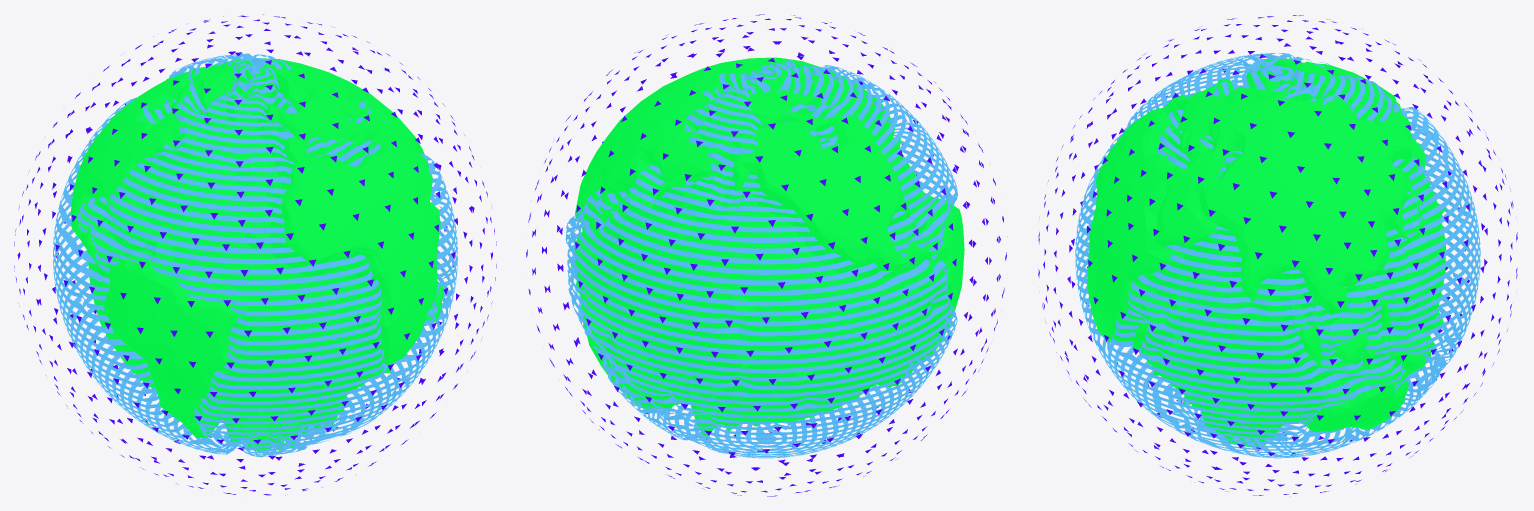
Rendered from Hologram1.glb.
3 renders of one model, left to right at view 1: azimuth 30°, elevation 25°; view 2: azimuth 150°, elevation 25°; view 3: azimuth 270°, elevation 25°, orthographic.
Parts seen in each view (by area): view 1: TERRE1, Sphere.002, Circle.455; view 2: TERRE1, Sphere.002, Circle.455; view 3: TERRE1, Sphere.002, Circle.455.
Boxes of the visible parts, x1,y1,x2,y2 form: TERRE1: (70,58,443,451); Sphere.002: (53,53,457,457); Circle.455: (14,14,496,495); TERRE1: (571,57,964,436); Sphere.002: (565,60,957,458); Circle.455: (526,14,1007,496); TERRE1: (1087,58,1446,447); Sphere.002: (1075,53,1480,458); Circle.455: (1038,15,1517,496).
Size of the model in its own units: 7.97 by 7.98 by 7.99.
